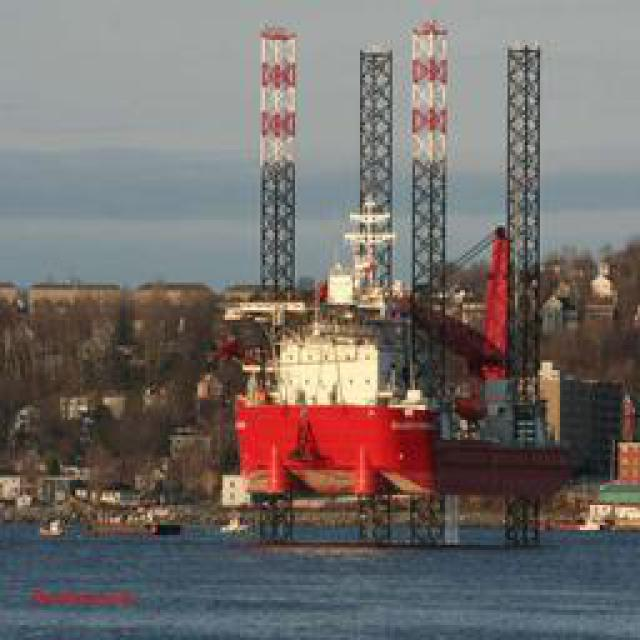Ship: (41, 519, 66, 539)
